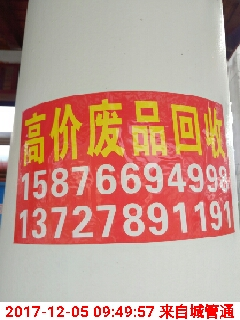paper: (9, 82, 238, 248)
